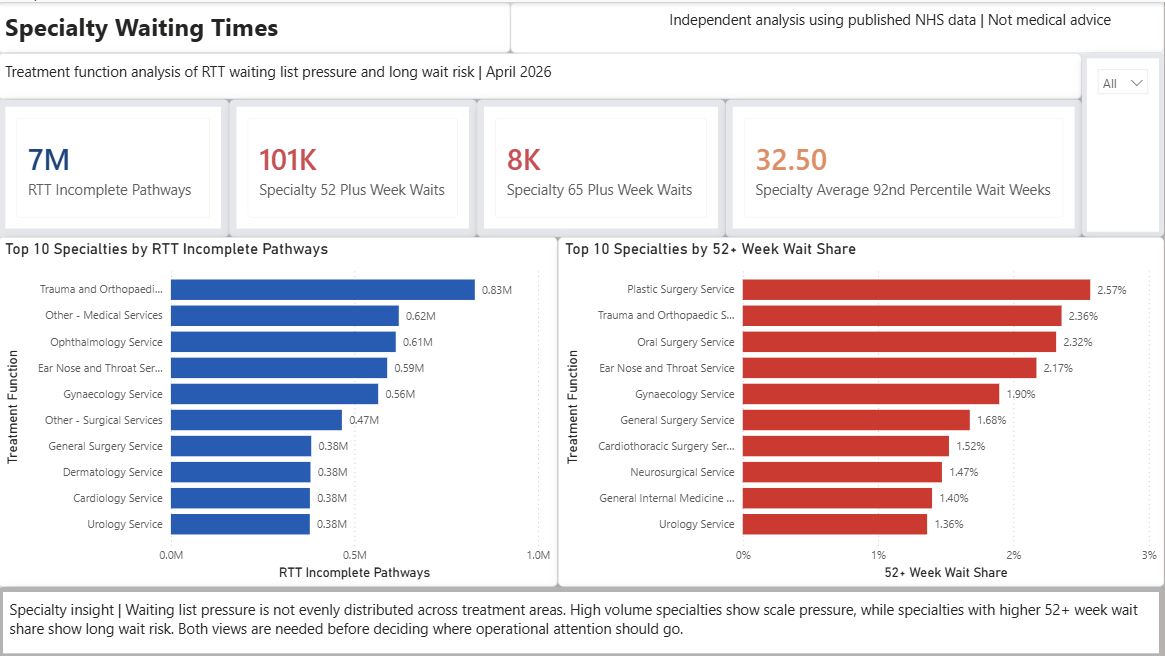

Layout of this report page (visuals, bound fields, positions):
{"tool":"powerbi","page":{"name":"Specialty Waiting Times","canvas":[1280,720],"ordinal":2},"visuals":[{"type":"textbox","box":[0,0,562.6,56.3],"z":0},{"type":"textbox","box":[0,56.3,1189.7,50.8],"z":1000},{"type":"textbox","box":[562.6,0,717.7,56.3],"z":2000},{"type":"cardVisual","fields":{"Data":["Key Measures.Total Waiting List"]},"box":[0,107,253.9,150.9],"z":3000},{"type":"cardVisual","fields":{"Data":["Key Measures.Specialty 52 Plus Week Waits"]},"box":[253.9,107,271.7,150.9],"z":4000},{"type":"cardVisual","fields":{"Data":["Key Measures.Specialty 65 Plus Week Waits"]},"box":[525.6,107,273.1,150.9],"z":5000},{"type":"cardVisual","fields":{"Data":["Key Measures.Specialty Average 92nd Percentile Wait Weeks"]},"box":[798.6,107,391.1,150.9],"z":6000},{"type":"slicer","fields":{"Values":["Specialty Pressure.specialty_pressure_group"]},"box":[1189.7,56.3,90.6,201.7],"z":7000},{"type":"clusteredBarChart","title":"Top 10 Specialties by RTT Incomplete Pathways","fields":{"Category":["Specialty Pressure.treatment_function"],"Y":["Key Measures.Specialty Total Waiting List Excluding Total"]},"box":[0,258,614.8,384.2],"z":8000},{"type":"clusteredBarChart","title":"Top 10 Specialties by 52+ Week Wait Share","fields":{"Category":["Specialty Pressure.treatment_function"],"Y":["Key Measures.Specialty 52 Plus Week Share Clean"]},"box":[614.8,258,665.5,384.2],"z":9000},{"type":"textbox","box":[0,642.2,1280.3,78.2],"z":10000}]}

Visuals, with their boxes in screenshot pixels (x1, y1, x2, y2), scaled from the page's 1280x720 canvas onto the 1165x656 screenshot:
textbox: crop(0, 0, 512, 51)
textbox: crop(0, 51, 1083, 98)
textbox: crop(512, 0, 1164, 51)
cardVisual - Key Measures.Total Waiting List: crop(0, 97, 231, 235)
cardVisual - Key Measures.Specialty 52 Plus Week Waits: crop(231, 97, 478, 235)
cardVisual - Key Measures.Specialty 65 Plus Week Waits: crop(478, 97, 727, 235)
cardVisual - Key Measures.Specialty Average 92nd Percentile Wait Weeks: crop(727, 97, 1083, 235)
slicer - Specialty Pressure.specialty_pressure_group: crop(1083, 51, 1164, 235)
"Top 10 Specialties by RTT Incomplete Pathways" clusteredBarChart: crop(0, 235, 560, 585)
"Top 10 Specialties by 52+ Week Wait Share" clusteredBarChart: crop(560, 235, 1164, 585)
textbox: crop(0, 585, 1164, 655)
